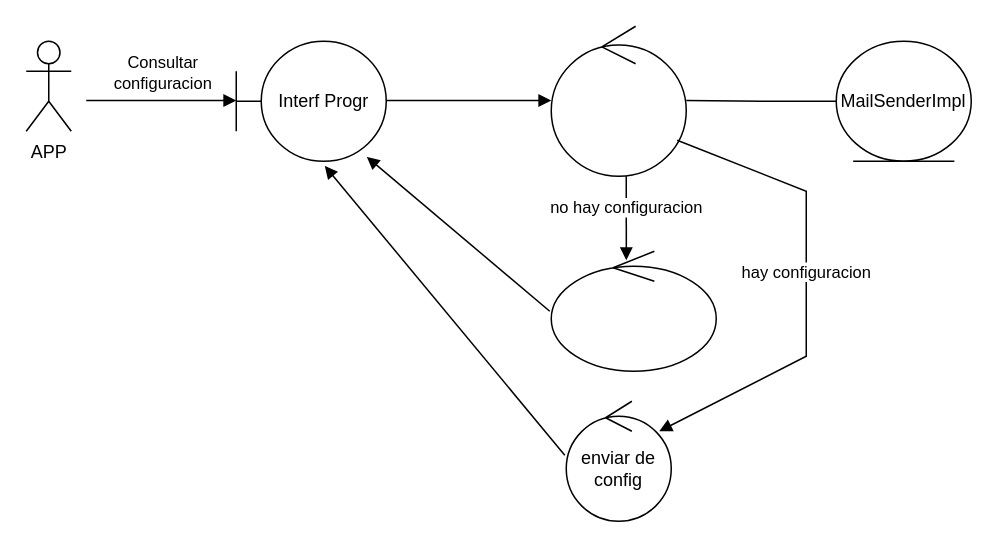
Image size: 998x548. Some labels were removed from this diagram. Here are the shapes that lost their labels. From the top down, the centre of each, then its label:
At [618,100]: "Consulta Configuracion".
At [633,310]: "NoConfigException".
